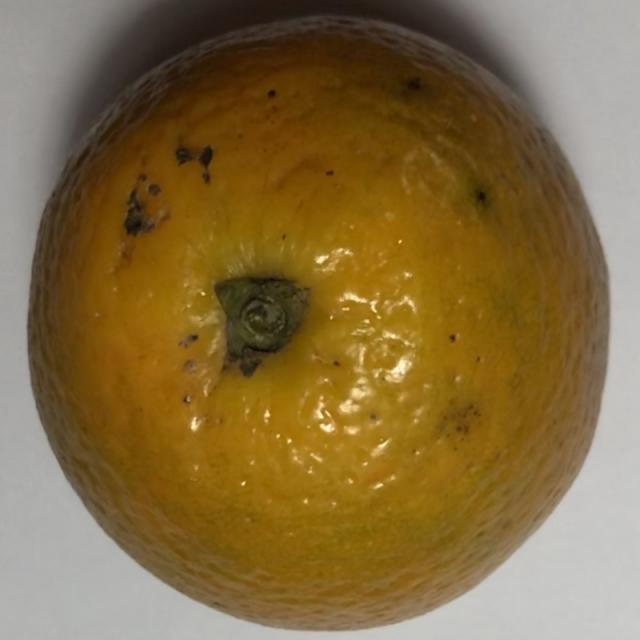blackspot: (13, 14, 622, 638)
